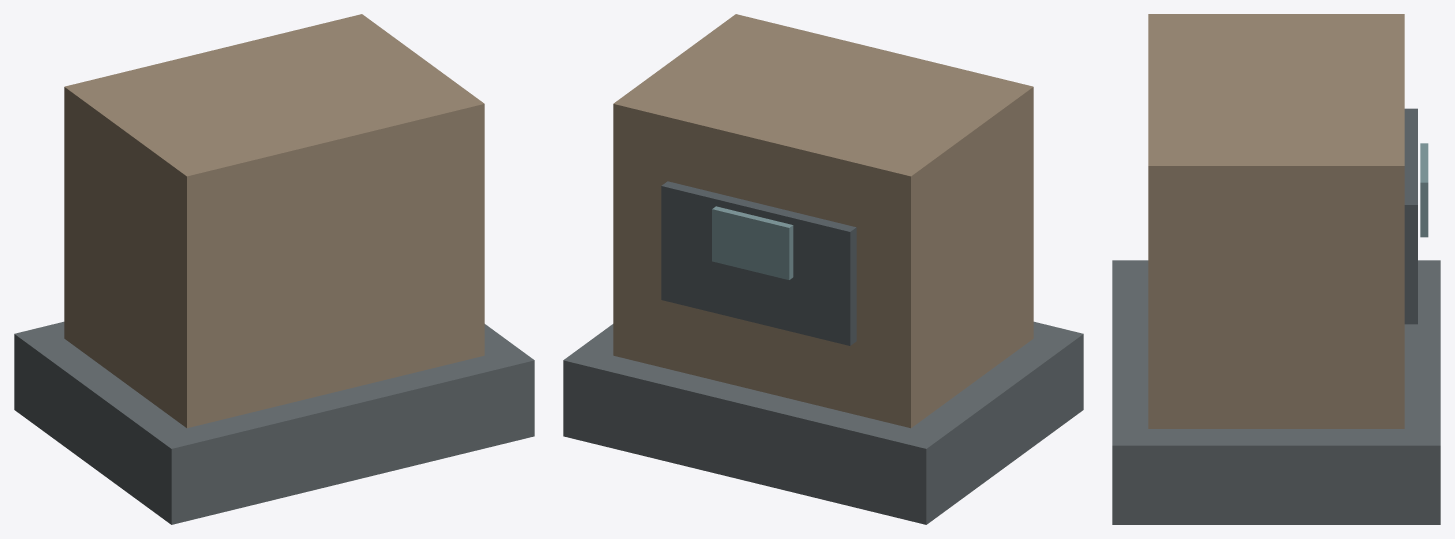
File: iz3_production_concrete_02.glb
3 renders of one model, left to right at view 1: azimuth 30°, elevation 25°; view 2: azimuth 150°, elevation 25°; view 3: azimuth 270°, elevation 25°, orthographic. The views are drawn at different scales.
Parts seen in each view (by area): view 1: cabinet, base; view 2: cabinet, base, panel, display; view 3: cabinet, base, panel, display.
Boxes of the visible parts, x1,y1,x2,y2 form: cabinet: (64,14,484,428); base: (14,321,534,524); cabinet: (613,14,1033,428); base: (563,321,1083,524); panel: (661,181,856,345); display: (712,206,793,279); cabinet: (1148,14,1404,428); base: (1112,260,1440,524); panel: (1404,108,1417,324); display: (1420,143,1428,237).
Size of the model in its own units: 1.6 by 1.38 by 1.2.
